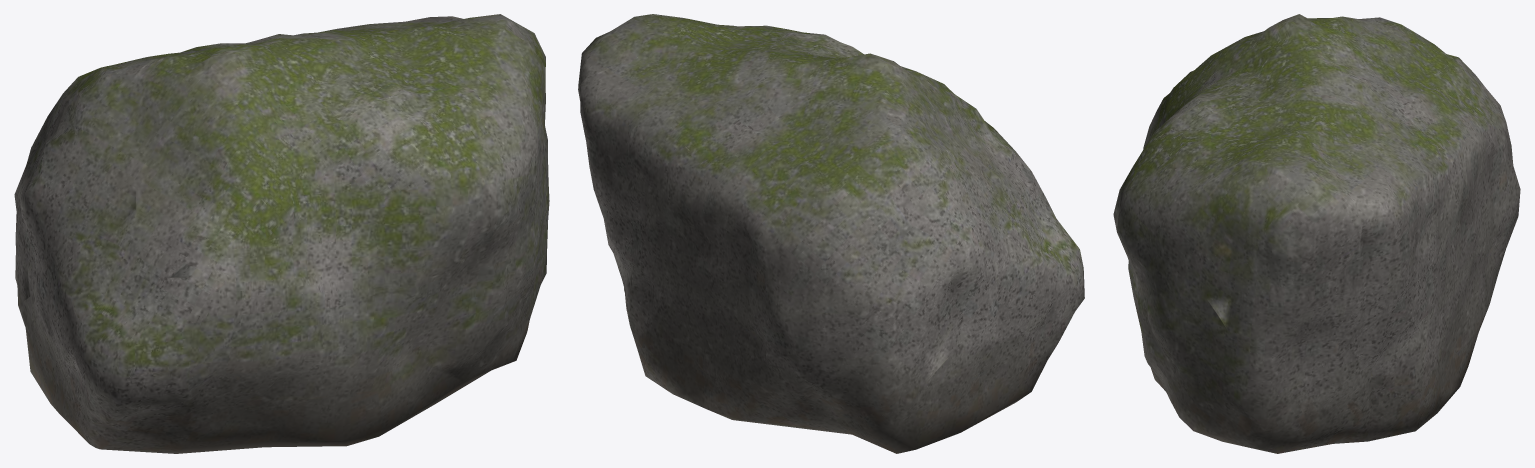
File: kamen_maly_4.glb
3 renders of one model, left to right at view 1: azimuth 30°, elevation 25°; view 2: azimuth 150°, elevation 25°; view 3: azimuth 270°, elevation 25°, orthographic. The views are drawn at different scales.
Parts seen in each view (by area): view 1: kamen_maly_4; view 2: kamen_maly_4; view 3: kamen_maly_4.
Part boxes in pixels (x1,y1,x2,y2): kamen_maly_4: (14, 14, 549, 453); kamen_maly_4: (578, 14, 1084, 453); kamen_maly_4: (1113, 14, 1520, 453).
Bounding box in the file's own units: 0.1389 × 0.0974 × 0.1056.
Materials: 1 (1 with a texture image).
